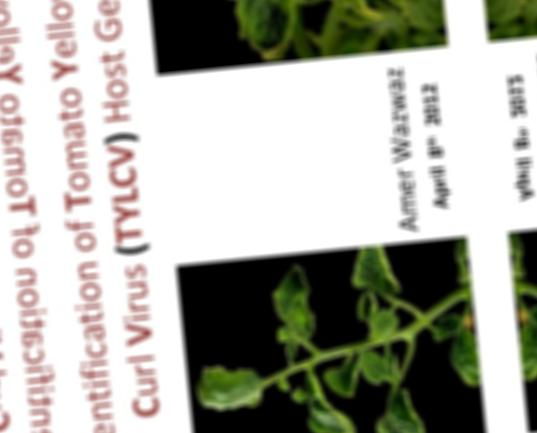Tomato leaf yellow virus: (218, 0, 305, 61), (188, 362, 276, 420), (264, 260, 318, 353), (299, 373, 360, 433), (304, 0, 390, 35)
